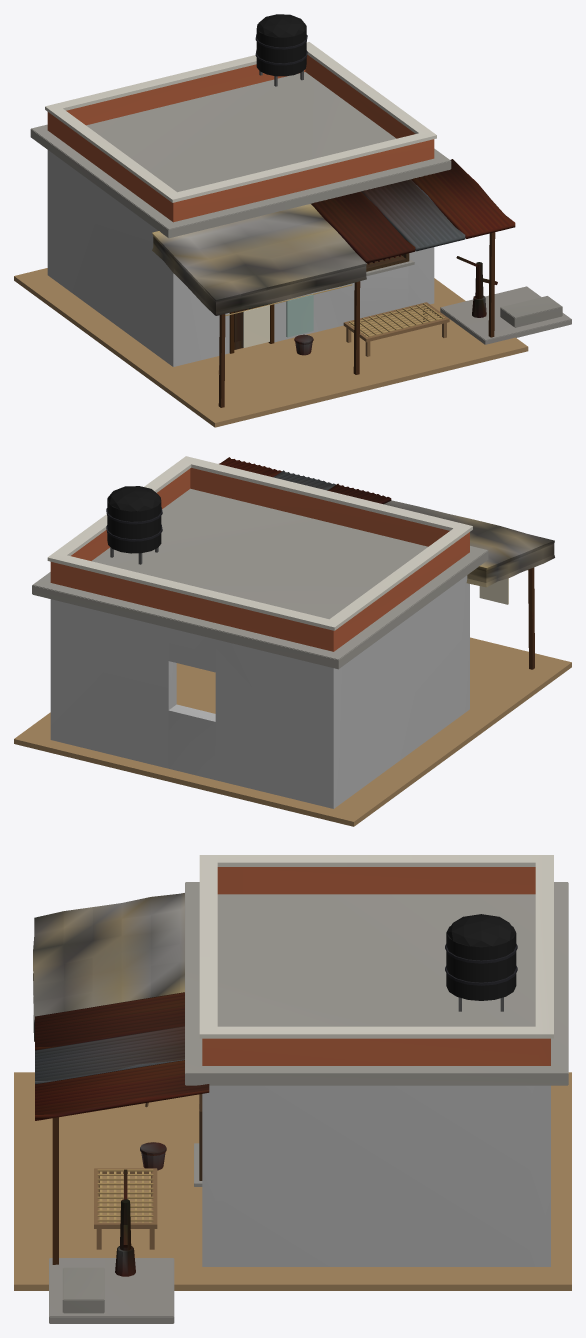
Rendered from house_kit_b.glb.
The picture shows the model from 3 angles, top to bottom: view 1: azimuth 30°, elevation 25°; view 2: azimuth 150°, elevation 25°; view 3: azimuth 270°, elevation 25°; orthographic projection. The views are drawn at different scales.
Parts seen in each view (by area): view 1: hb_main, hb_brick, hb_thatch, hb_tin, hb_props, hb_metal; view 2: hb_main, hb_brick, hb_thatch, hb_tin, hb_props; view 3: hb_main, hb_brick, hb_tin, hb_thatch, hb_props, hb_metal.
Part boxes in pixels (x1,y1,x2,y2): hb_main: (14,14,571,427); hb_brick: (47,150,434,366); hb_thatch: (152,204,366,315); hb_tin: (311,159,515,263); hb_props: (218,232,495,407); hb_metal: (294,255,497,355); hb_main: (14,456,571,826); hb_brick: (50,575,469,808); hb_thatch: (384,500,554,587); hb_tin: (219,457,391,504); hb_props: (528,567,534,669); hb_main: (14,855,571,1323); hb_brick: (202,1085,550,1266); hb_tin: (35,992,209,1120); hb_thatch: (33,893,184,1041); hb_props: (52,1094,202,1264); hb_metal: (115,1142,166,1276).
Size of the model in its own units: 8.5 by 5.01 by 8.
